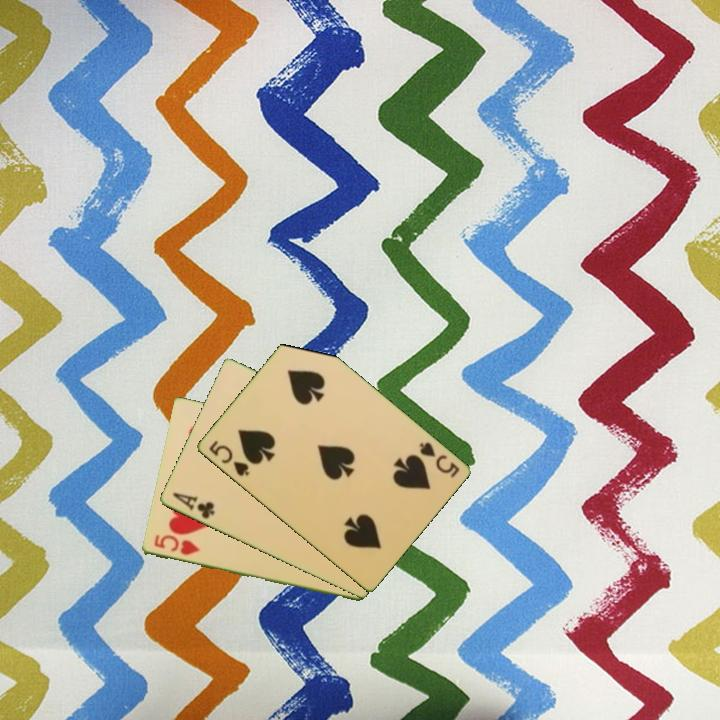5h: (150, 531, 202, 558)
5s: (415, 438, 462, 481), (205, 437, 252, 479)
Ac: (169, 489, 217, 522)
